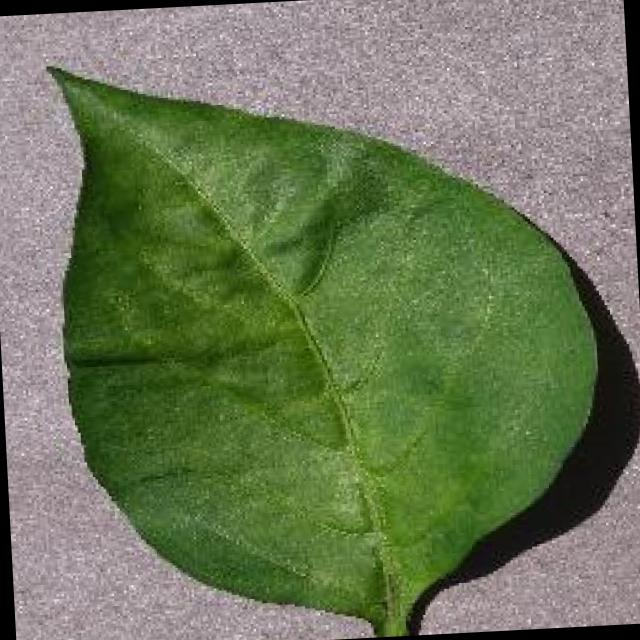Chilli_Healthy: (40, 33, 613, 640)
